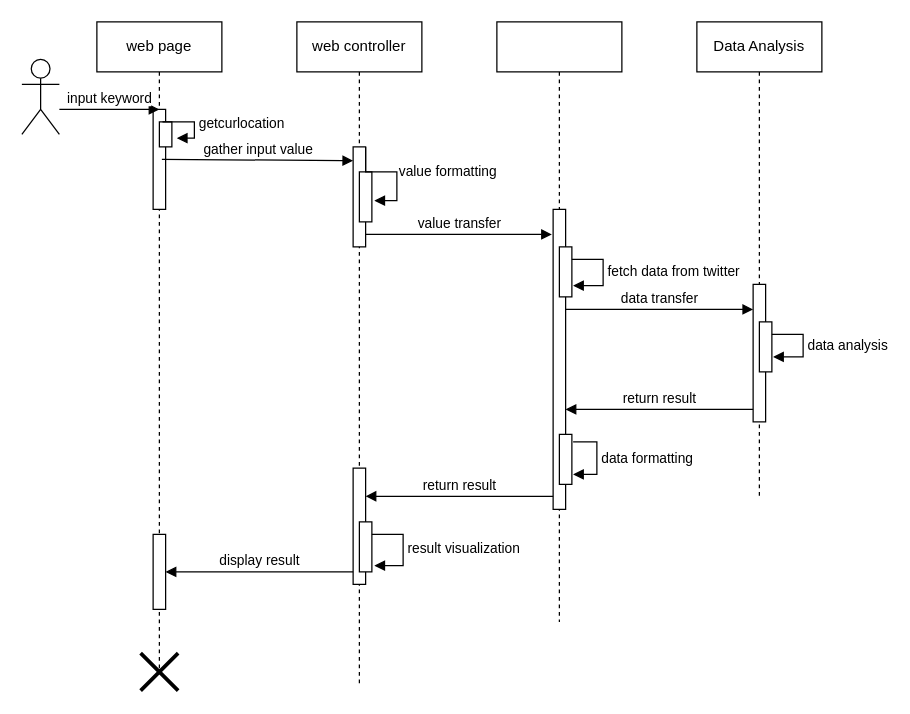
The diagram is 910 pixels wide and 714 high, and some of its shapes have lost their labels. The centre of each missing label's shape, as x and y in pixels:
Actor: point 40,96
Data Fetch: point 559,321
